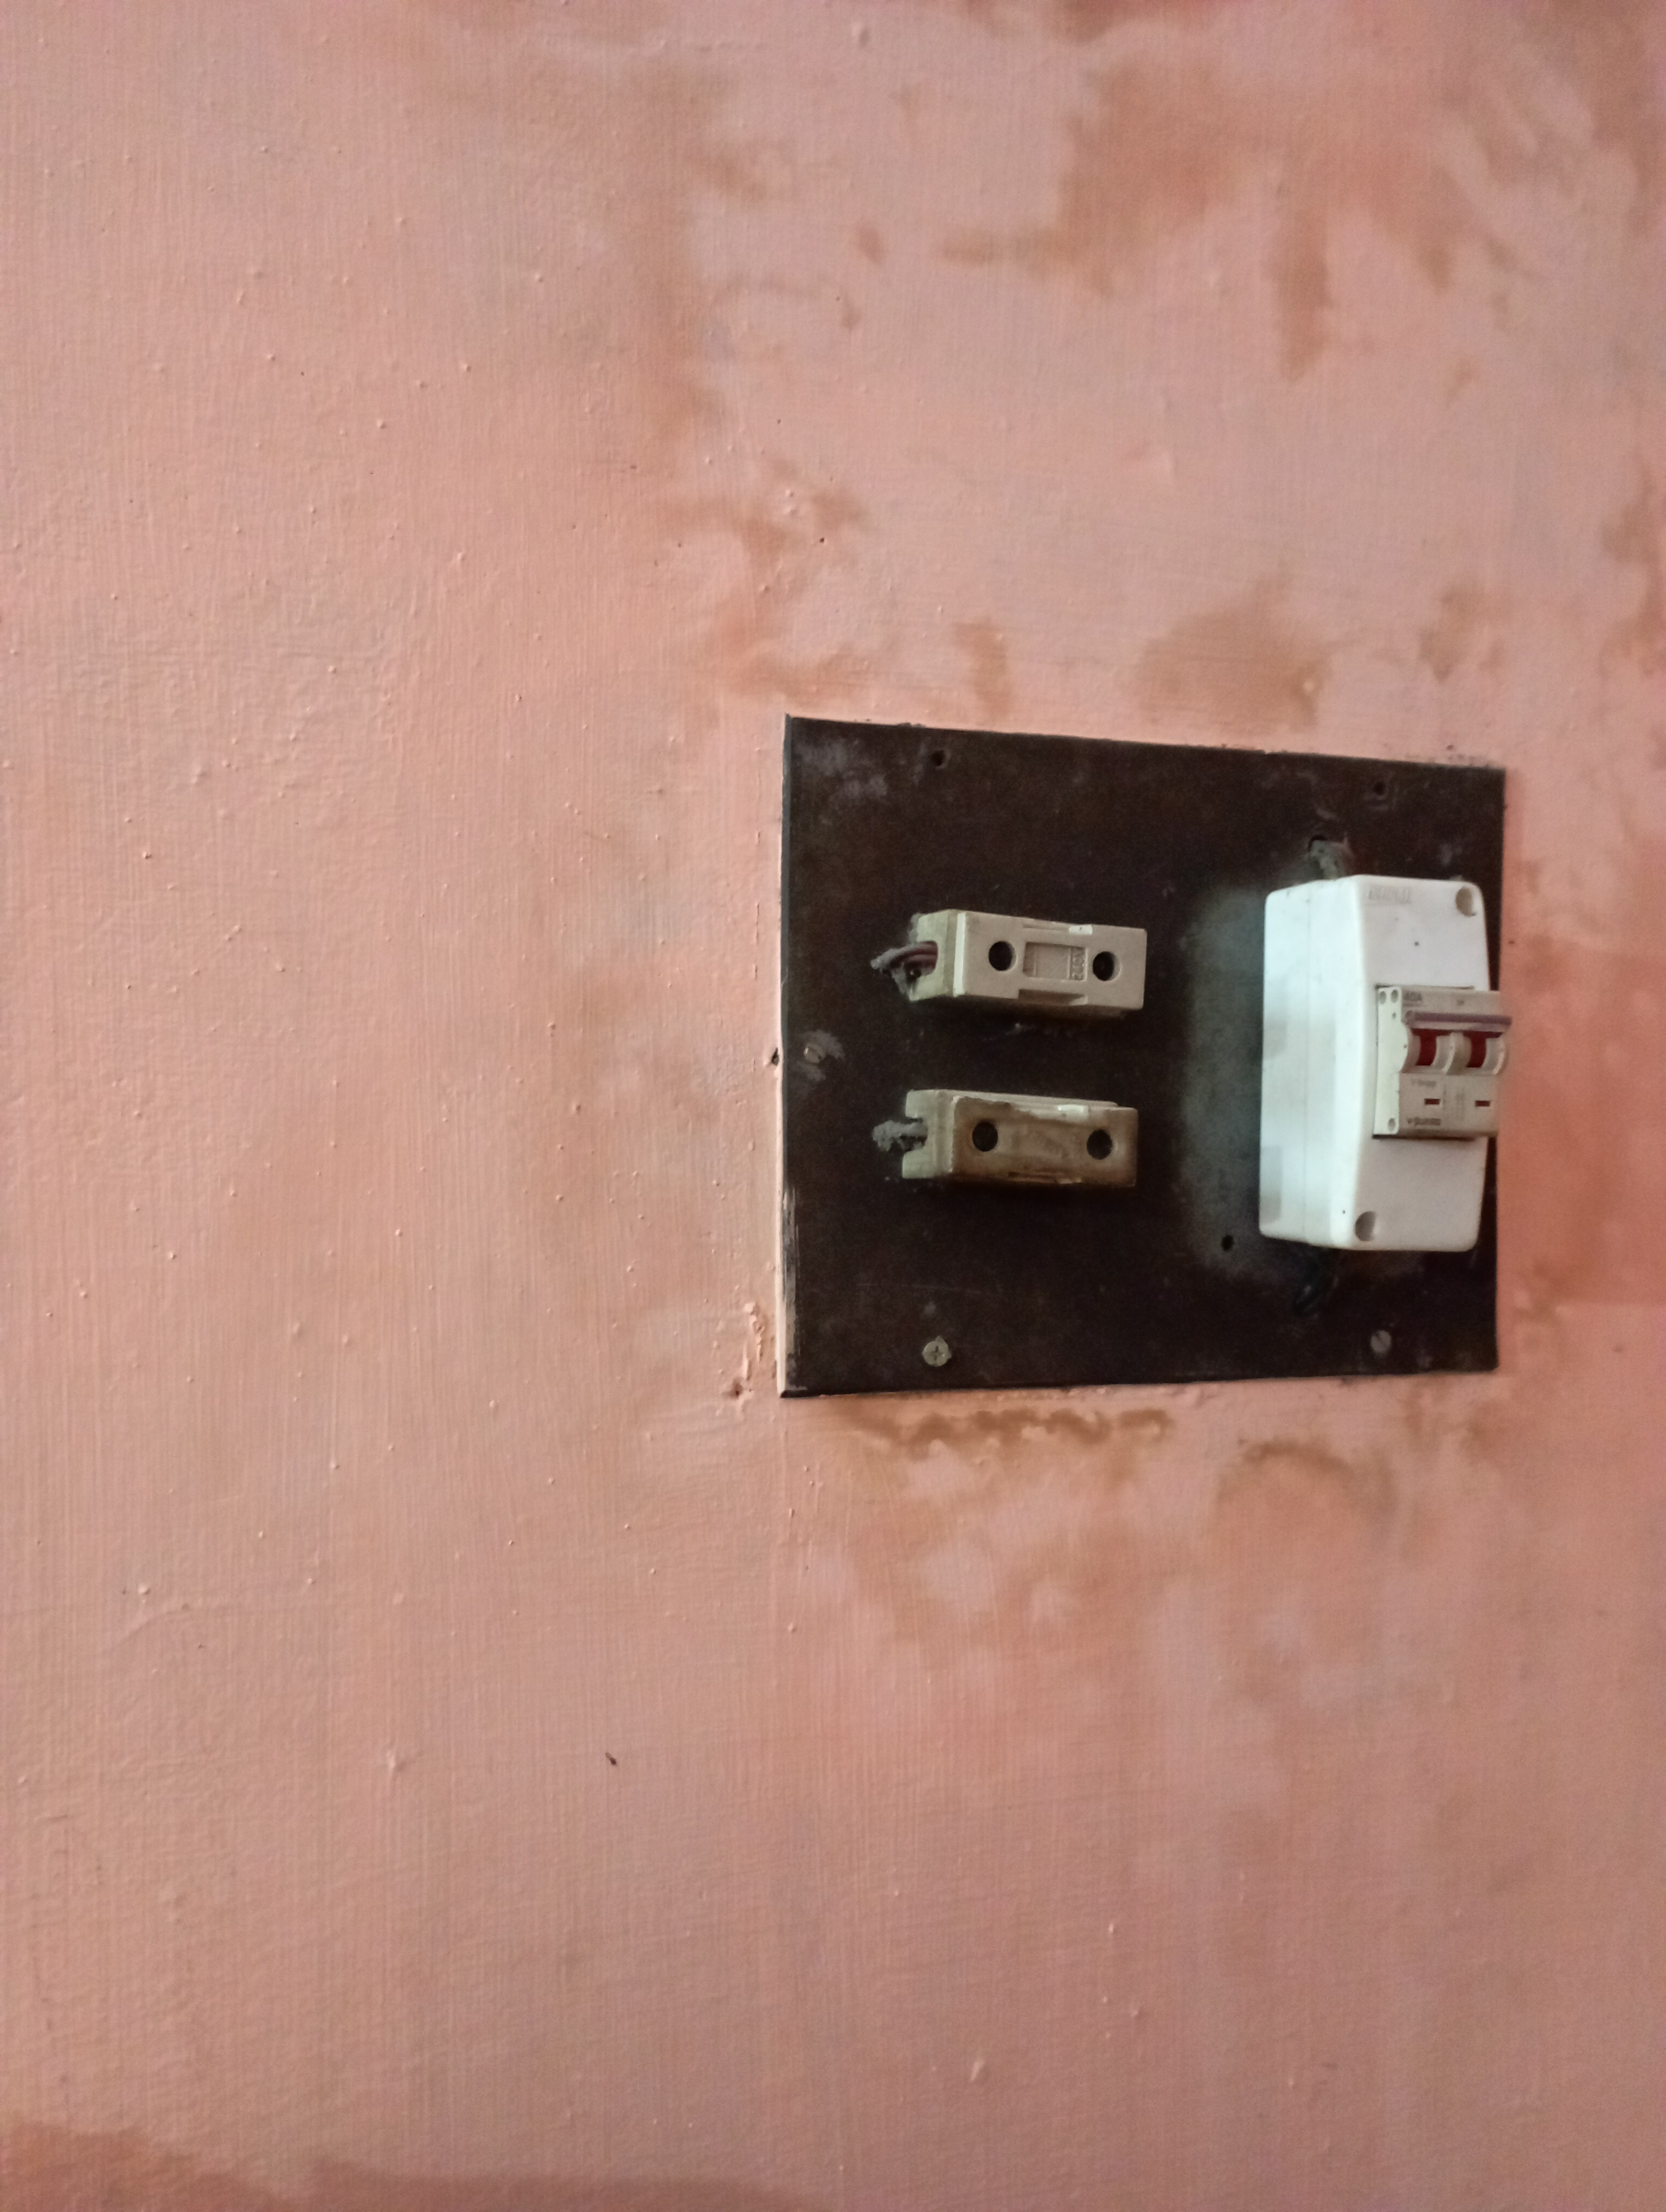ciruit_breaker: (1248, 867, 1533, 1299)
fuse: (873, 904, 1176, 1035), (891, 1093, 1155, 1189)
